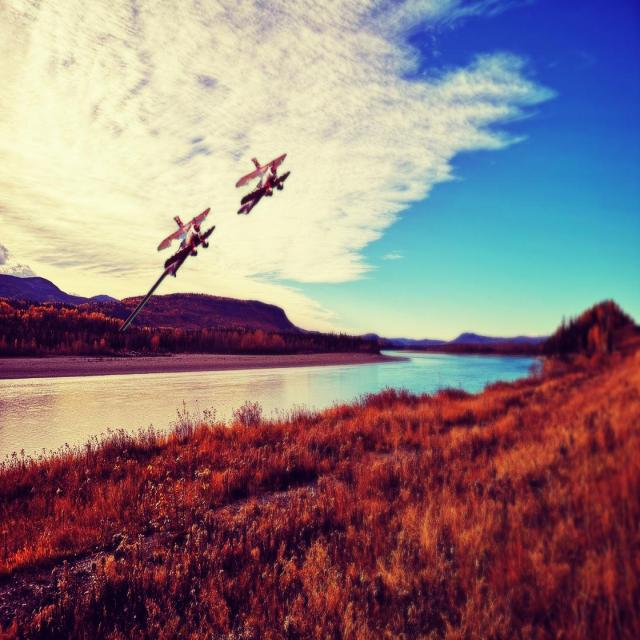airplane: (120, 206, 217, 330), (235, 152, 292, 220)
